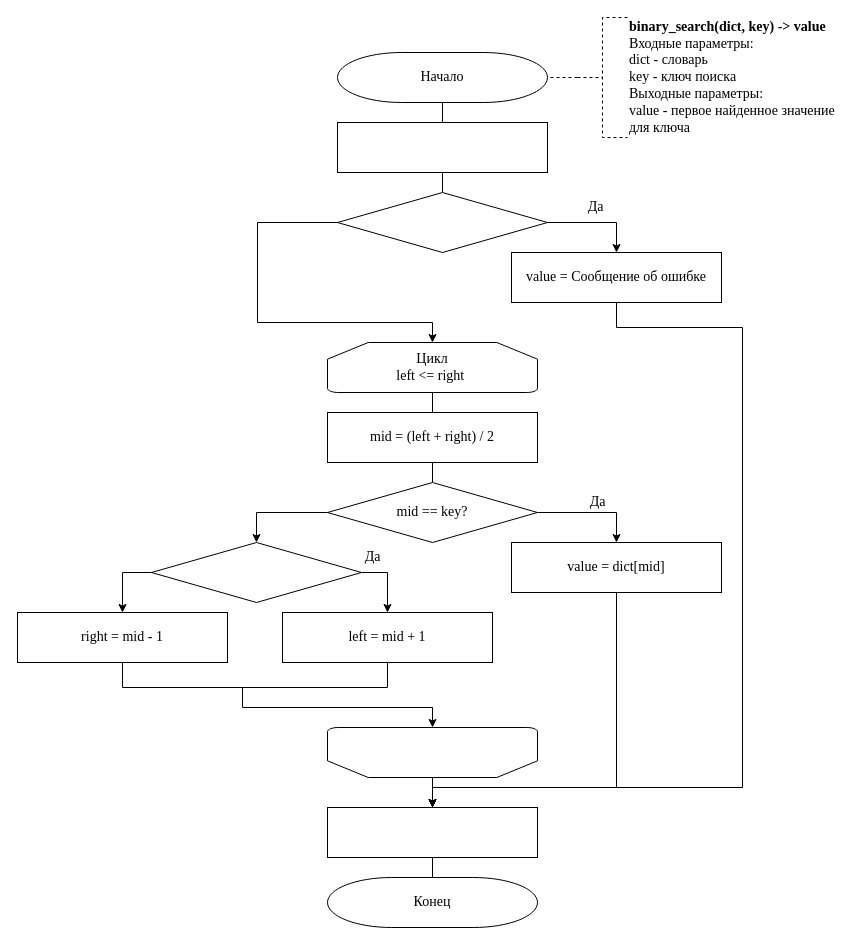
Some shapes in this 853 by 945 pixel diagram are drawn without their labels. The centre of each missing label's shape, as x and y in pixels:
"left = 0, right = len(dict) - 1" belongs at [442,147].
"mid < key?" belongs at [256,572].
"right == 0?" belongs at [442,222].
"Вернуть value" belongs at [432,832].
"Конец цикла" belongs at [432,752].
